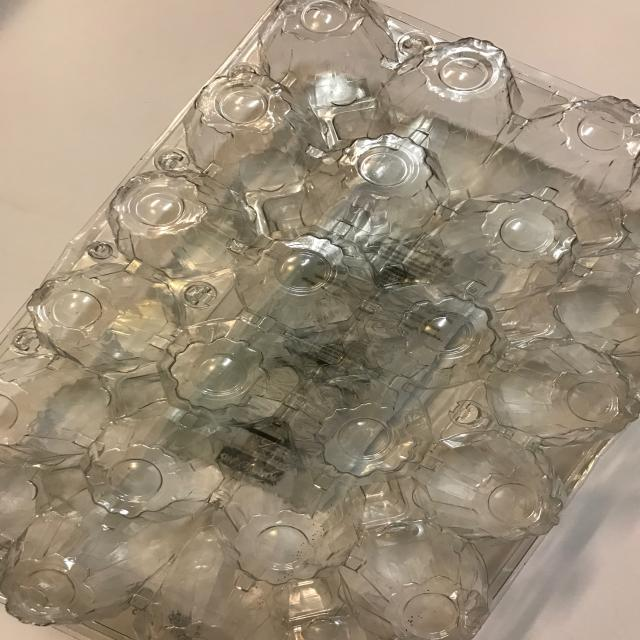plastic: (1, 1, 638, 638)
